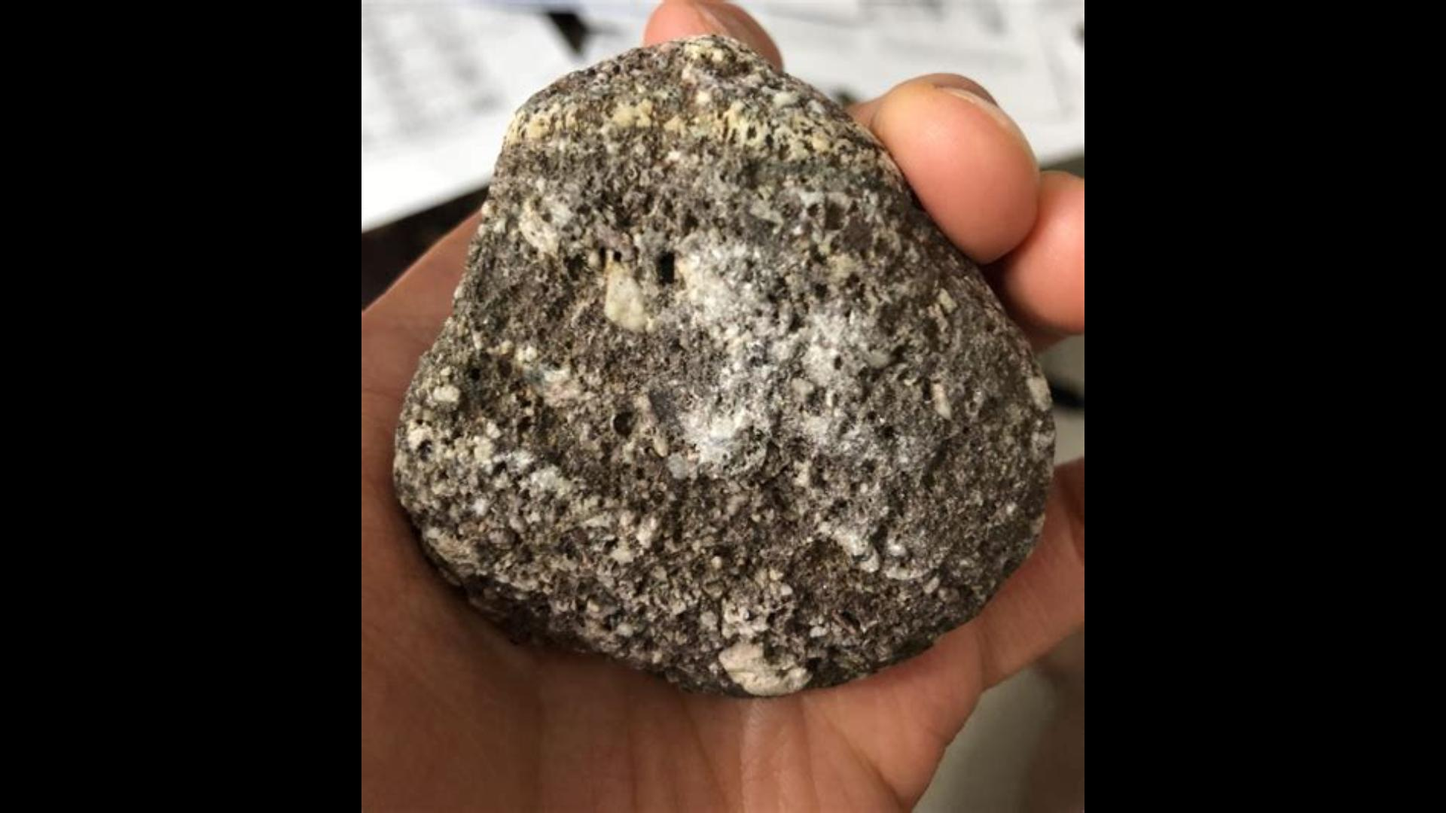rock: (395, 41, 1050, 688)
